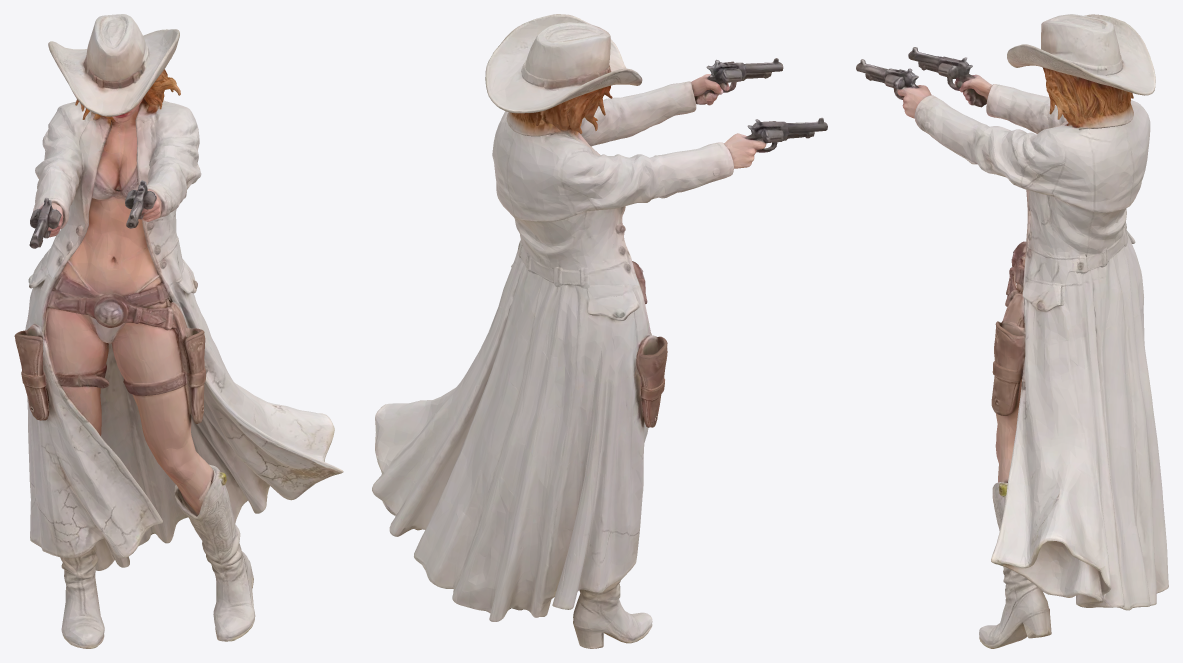
The model's file is cowgirl-v1.glb.
3 renders of one model, left to right at view 1: azimuth 30°, elevation 25°; view 2: azimuth 150°, elevation 25°; view 3: azimuth 270°, elevation 25°, orthographic. The views are drawn at different scales.
Visible parts, largest first — view 1: Mesh_0_modddif_material_0_0; view 2: Mesh_0_modddif_material_0_0; view 3: Mesh_0_modddif_material_0_0.
Part boxes in pixels (bbox=[...]): Mesh_0_modddif_material_0_0: bbox=[14, 14, 343, 648]; Mesh_0_modddif_material_0_0: bbox=[372, 14, 827, 648]; Mesh_0_modddif_material_0_0: bbox=[856, 14, 1168, 648].
Size of the model in its own units: 0.6451 by 0.9998 by 0.4798.
1 material, 1 textured.
